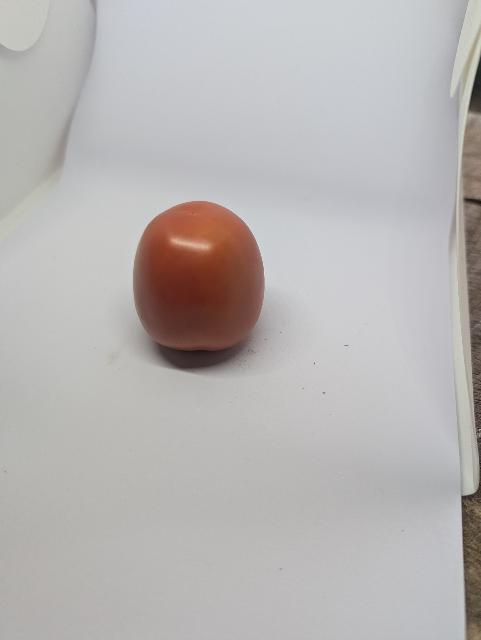red: (124, 197, 271, 367)
